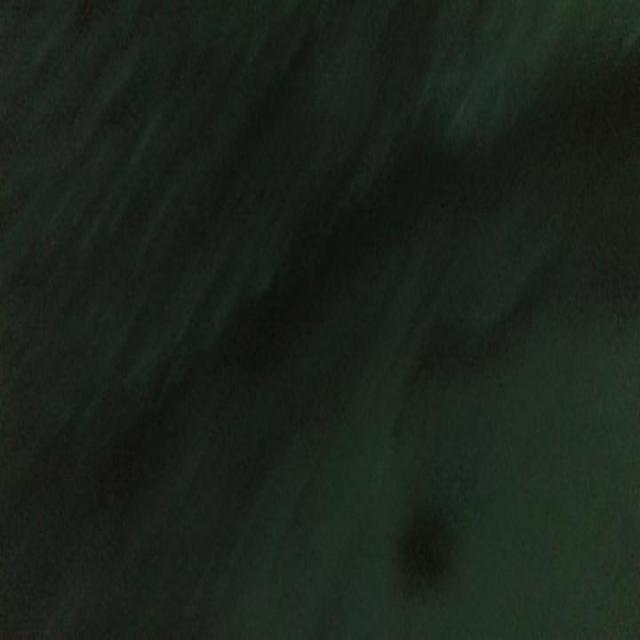echinus: (385, 485, 461, 599)
